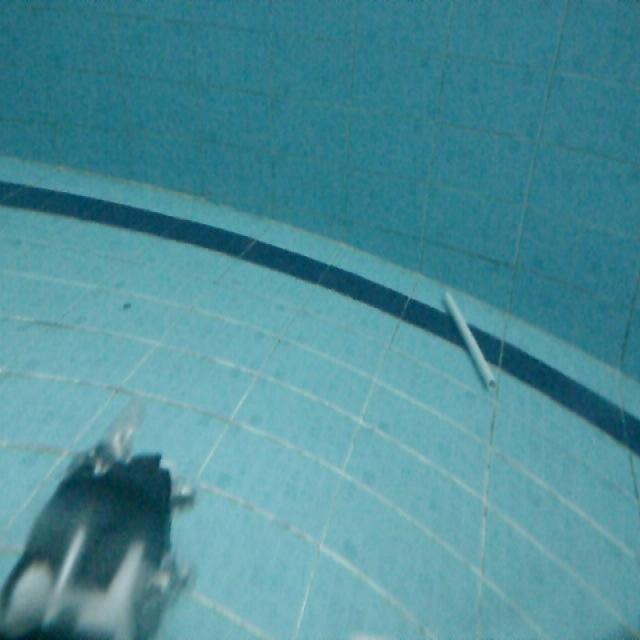Cube: (442, 288, 500, 397)
